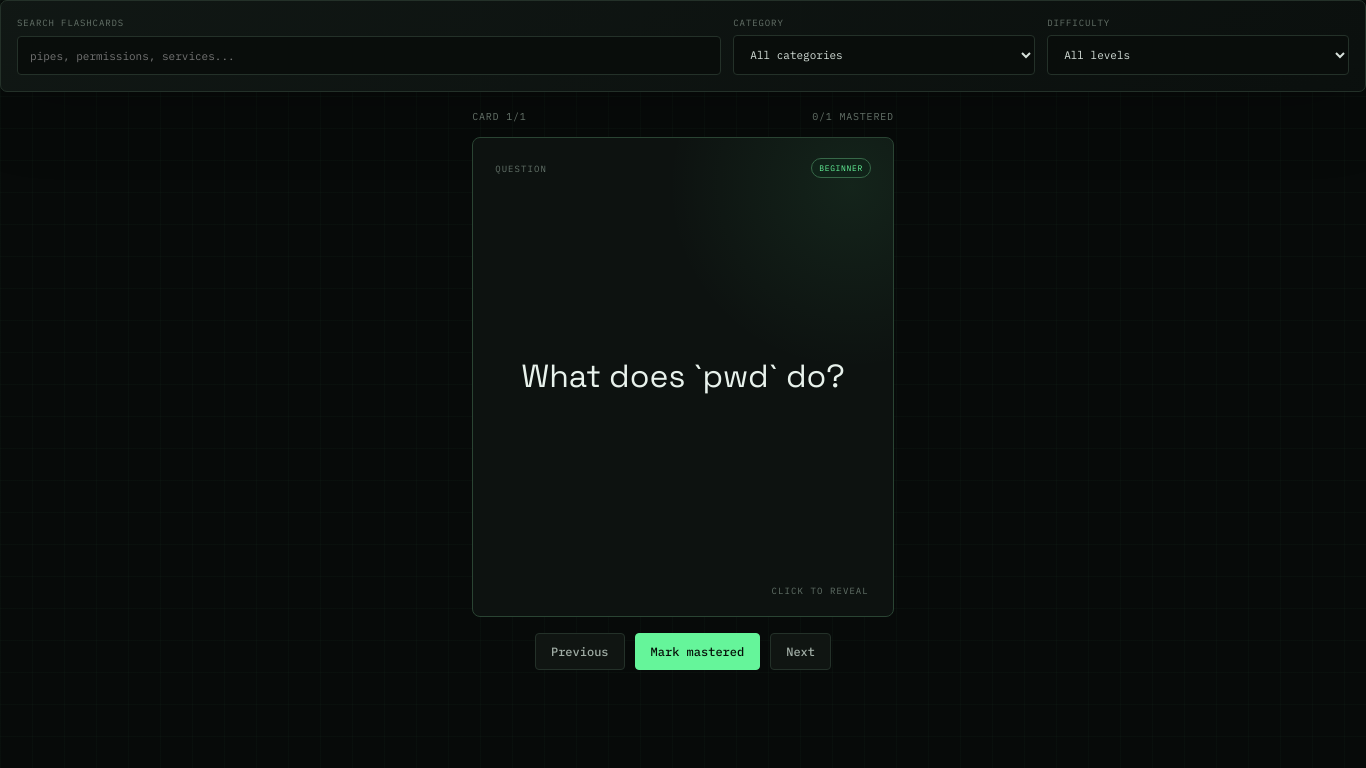
Test: Linux flashcards › reveals the structured beginner and professional explanation
Click the button with aria-label "Flip Linux flashcard" at (683, 377), box [472,137,894,617]
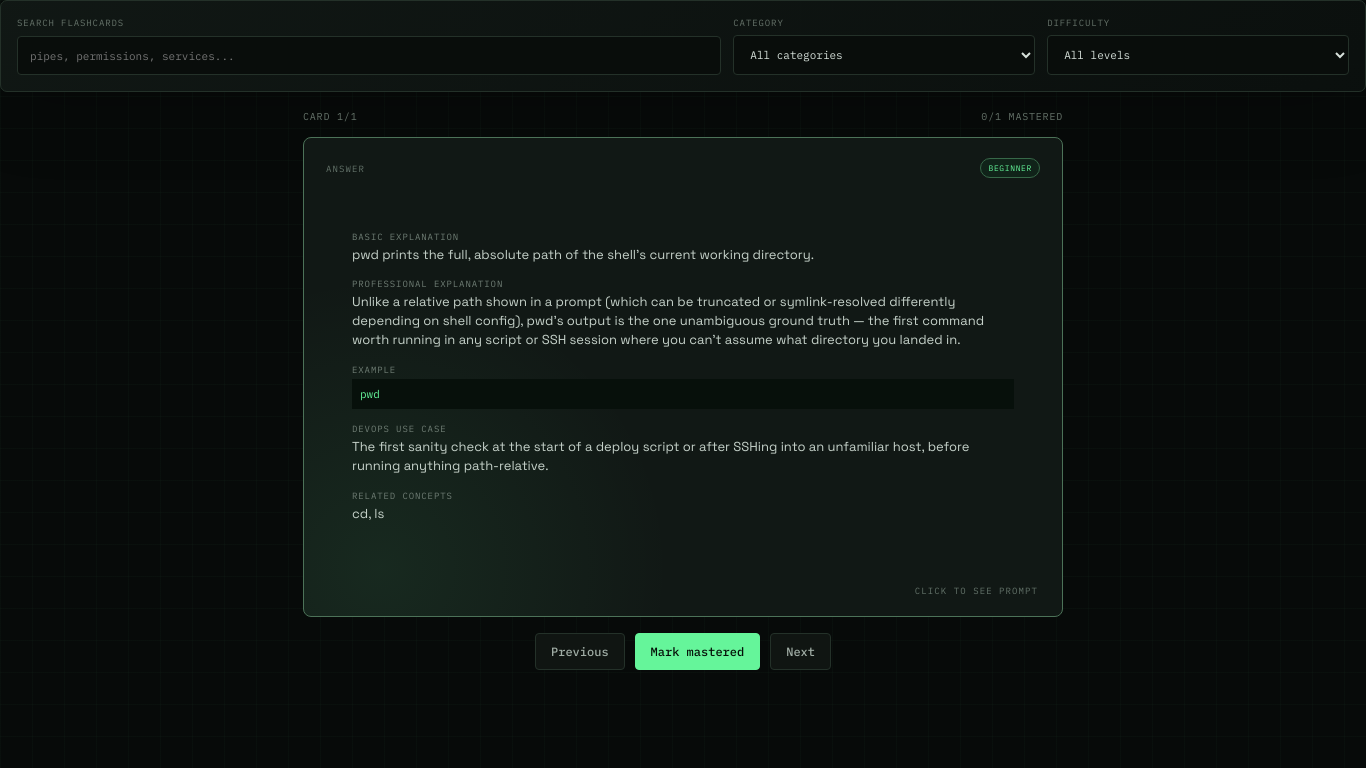
Expected: the text "Basic explanation" is shown, [352,230,459,242]
Expected: the text "Professional explanation" is shown, [352,278,503,289]
Expected: the text "Example" is shown, [352,364,396,375]
